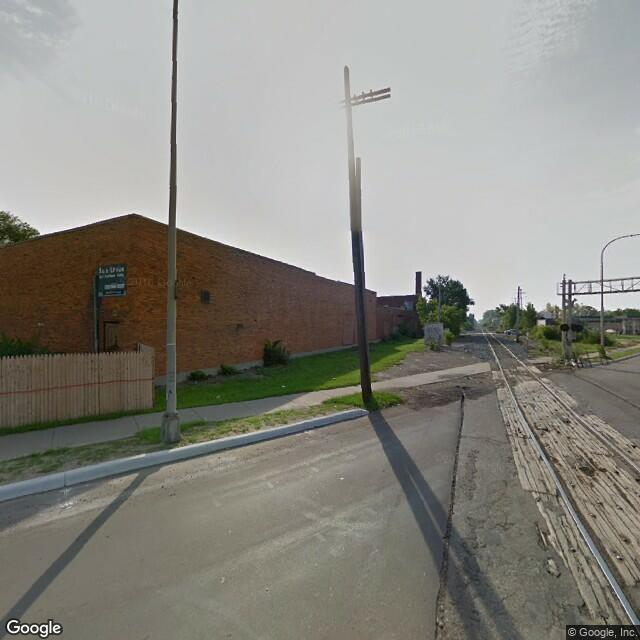litter: (328, 370, 341, 386), (276, 381, 293, 391), (212, 391, 224, 401)
